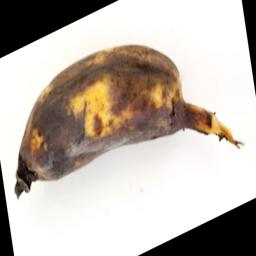Banana Rotten: (0, 2, 256, 195)
